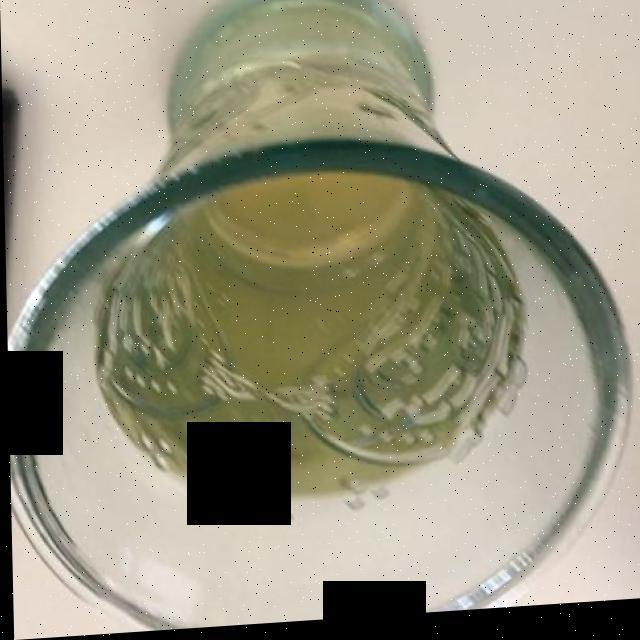tea: (94, 184, 521, 509)
